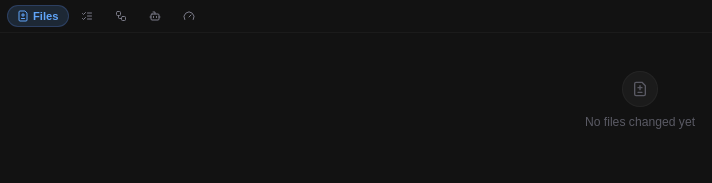
Test: InspectorCard — the Usage tab says which absence it is showing › says there is no data — never $0.00 — when the source answered with none
The image size is (712, 183).
Click the button named "Usage". click: x=188, y=16
box: [172, 5, 204, 27]
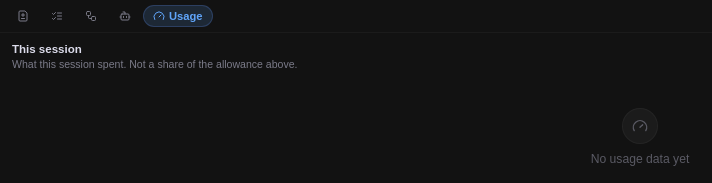
Expected: the text "No usage data yet" is shown, [591, 108, 689, 166]
